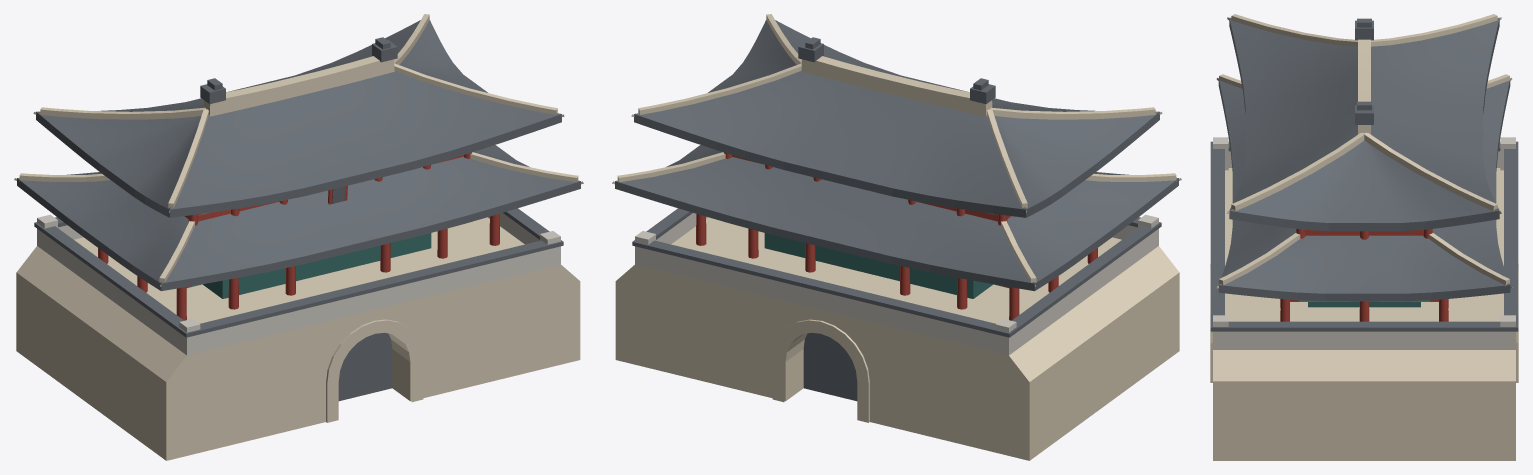
The model's file is seoul-sungnyemun.glb.
3 renders of one model, left to right at view 1: azimuth 30°, elevation 25°; view 2: azimuth 150°, elevation 25°; view 3: azimuth 270°, elevation 25°, orthographic.
Visible parts, largest first — view 1: Sungnyemun; view 2: Sungnyemun; view 3: Sungnyemun.
Boxes of the visible parts, box(x1,y1,x2,y2) form: Sungnyemun: box(14, 14, 583, 460); Sungnyemun: box(612, 14, 1181, 460); Sungnyemun: box(1210, 14, 1518, 460).
Bounding box in the file's own units: 34.9 × 23.15 × 21.76.
